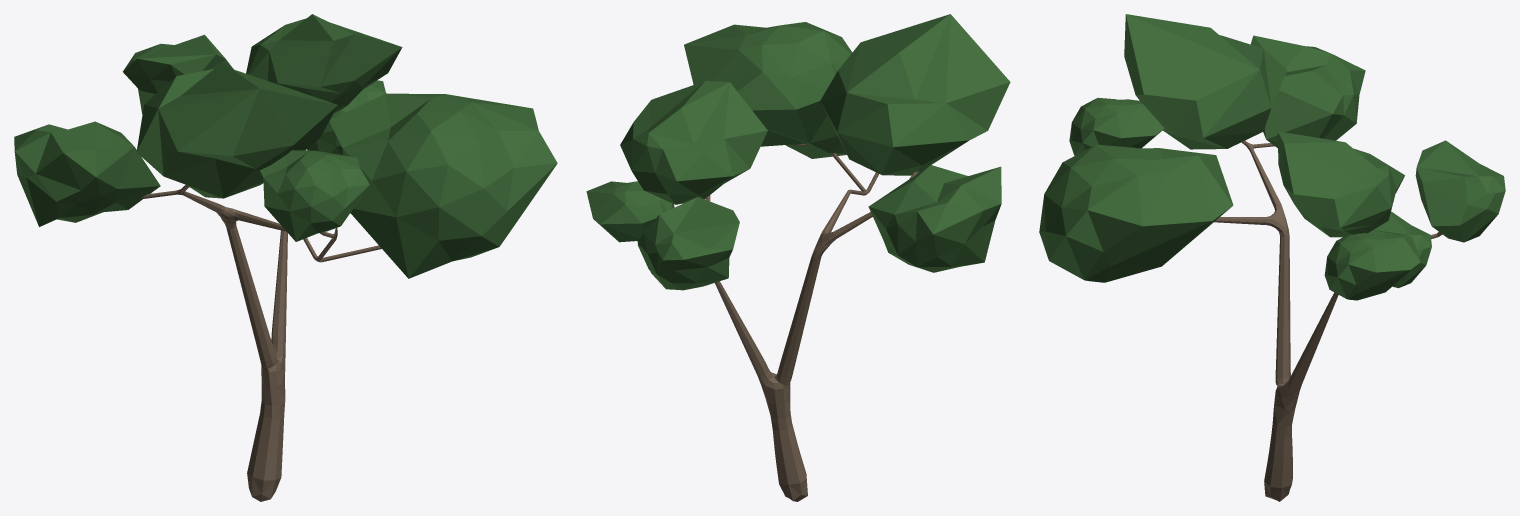
Rendered from LowPTree1.fbx.
The picture shows the model from 3 angles, left to right: view 1: azimuth 30°, elevation 25°; view 2: azimuth 150°, elevation 25°; view 3: azimuth 270°, elevation 25°; orthographic projection. The views are drawn at different scales.
Visible parts, largest first — view 1: Icosphere.005, Icosphere.002, Icosphere.001, Cube, Icosphere, Icosphere.006, Icosphere.003, Icosphere.004; view 2: Icosphere.002, Icosphere.005, Icosphere, Icosphere.001, Cube, Icosphere.003, Icosphere.004; view 3: Icosphere.005, Icosphere.002, Icosphere, Icosphere.003, Icosphere.001, Cube, Icosphere.004, Icosphere.006.
Part boxes in pixels (bbox=[...]): Icosphere.005: bbox=[329, 93, 557, 278]; Icosphere.002: bbox=[136, 62, 337, 198]; Icosphere.001: bbox=[14, 121, 160, 226]; Cube: bbox=[140, 185, 381, 501]; Icosphere: bbox=[246, 14, 402, 112]; Icosphere.006: bbox=[260, 150, 369, 241]; Icosphere.003: bbox=[123, 34, 233, 114]; Icosphere.004: bbox=[307, 80, 386, 154]; Icosphere.002: bbox=[820, 14, 1010, 175]; Icosphere.005: bbox=[684, 22, 852, 158]; Icosphere: bbox=[620, 81, 767, 204]; Icosphere.001: bbox=[868, 165, 1001, 272]; Cube: bbox=[705, 143, 919, 501]; Icosphere.003: bbox=[637, 197, 739, 290]; Icosphere.004: bbox=[586, 181, 674, 242]; Icosphere.005: bbox=[1039, 144, 1233, 282]; Icosphere.002: bbox=[1124, 14, 1287, 149]; Icosphere: bbox=[1277, 131, 1404, 237]; Icosphere.003: bbox=[1368, 140, 1505, 288]; Icosphere.001: bbox=[1250, 35, 1365, 147]; Cube: bbox=[1214, 140, 1442, 501]; Icosphere.004: bbox=[1324, 233, 1420, 300]; Icosphere.006: bbox=[1069, 97, 1164, 155].
Size of the model in its own units: 1349 by 1505 by 1417.
